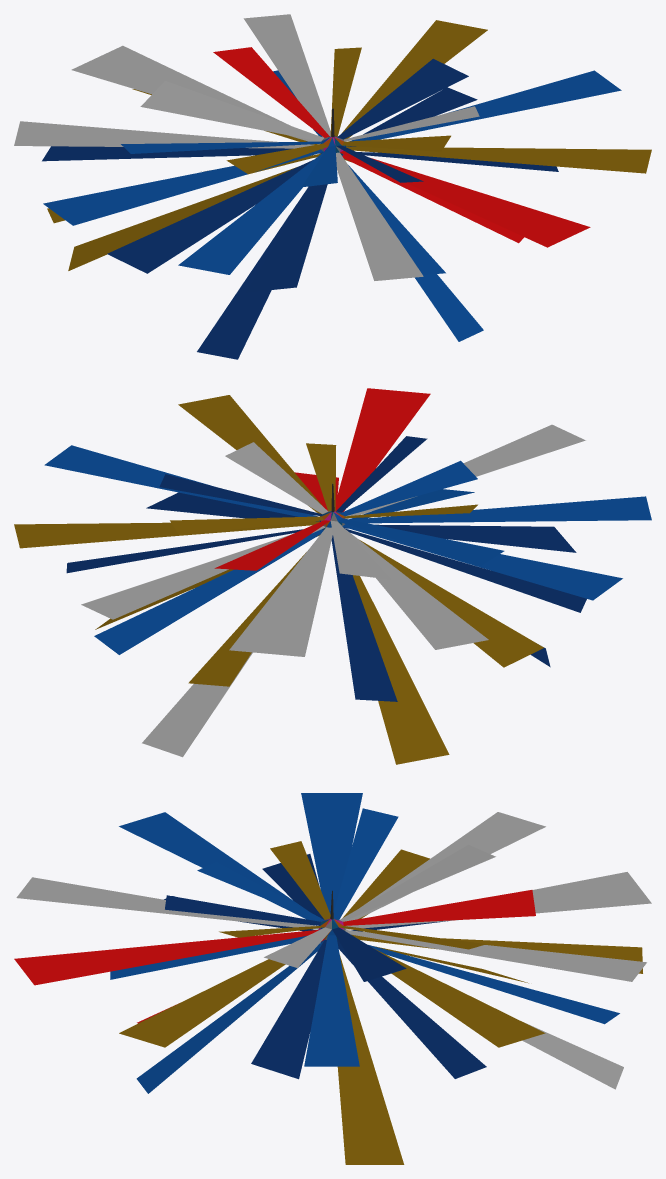
File: discoBall.glb
3 views of the same model, one above another, from view 1: azimuth 30°, elevation 25°; view 2: azimuth 150°, elevation 25°; view 3: azimuth 270°, elevation 25° (orthographic).
Visible parts, largest first — view 1: discoBall; view 2: discoBall; view 3: discoBall.
Boxes of the visible parts, x1,y1,x2,y2 form: discoBall: (14, 14, 651, 359); discoBall: (14, 388, 651, 764); discoBall: (14, 793, 651, 1164).
Bounding box in the file's own units: 16.75 × 4.95 × 16.51.
Materials: 1 (1 with a texture image).
